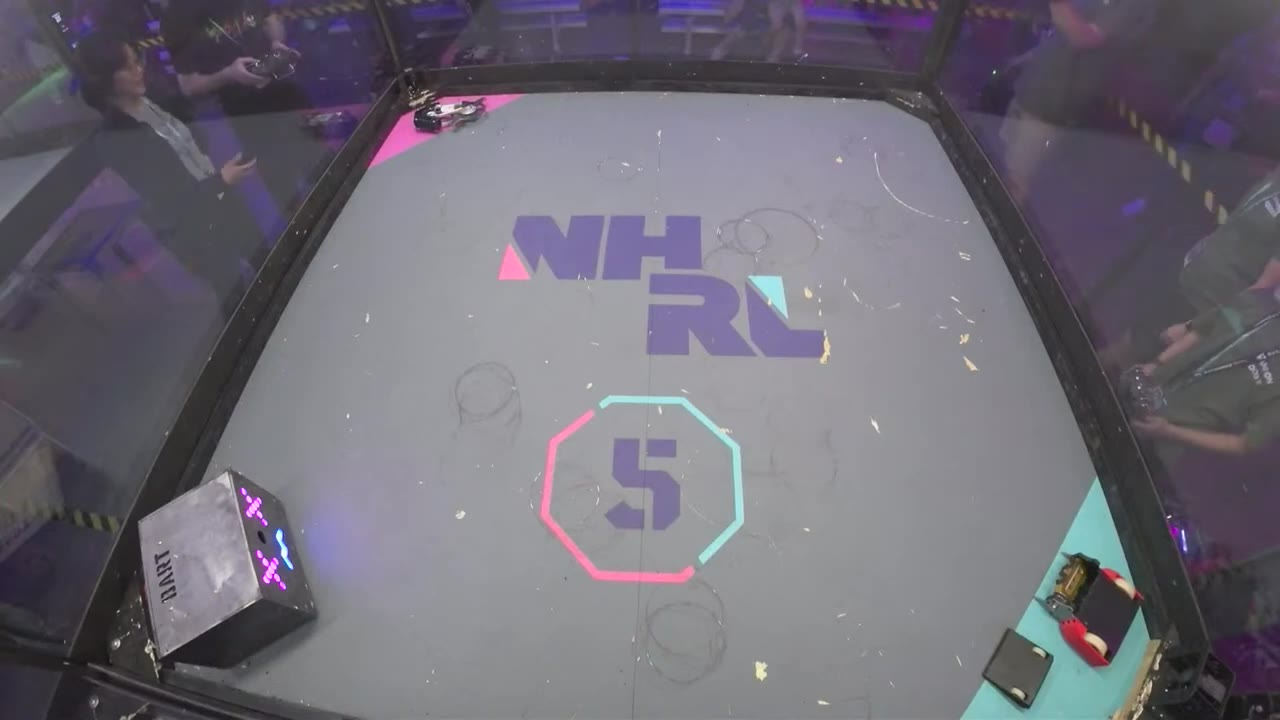combatbot: (1034, 551, 1144, 668), (411, 94, 489, 136)
housebot: (136, 467, 321, 672)
minibot: (976, 626, 1056, 711)
